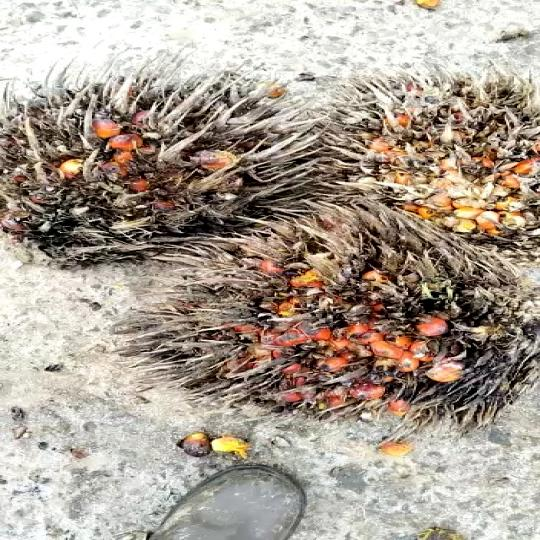terlalu masak: (88, 198, 540, 418), (0, 60, 341, 271), (304, 59, 540, 246)
